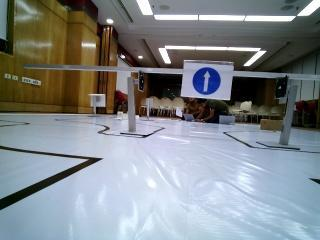straight: (182, 60, 232, 99)
